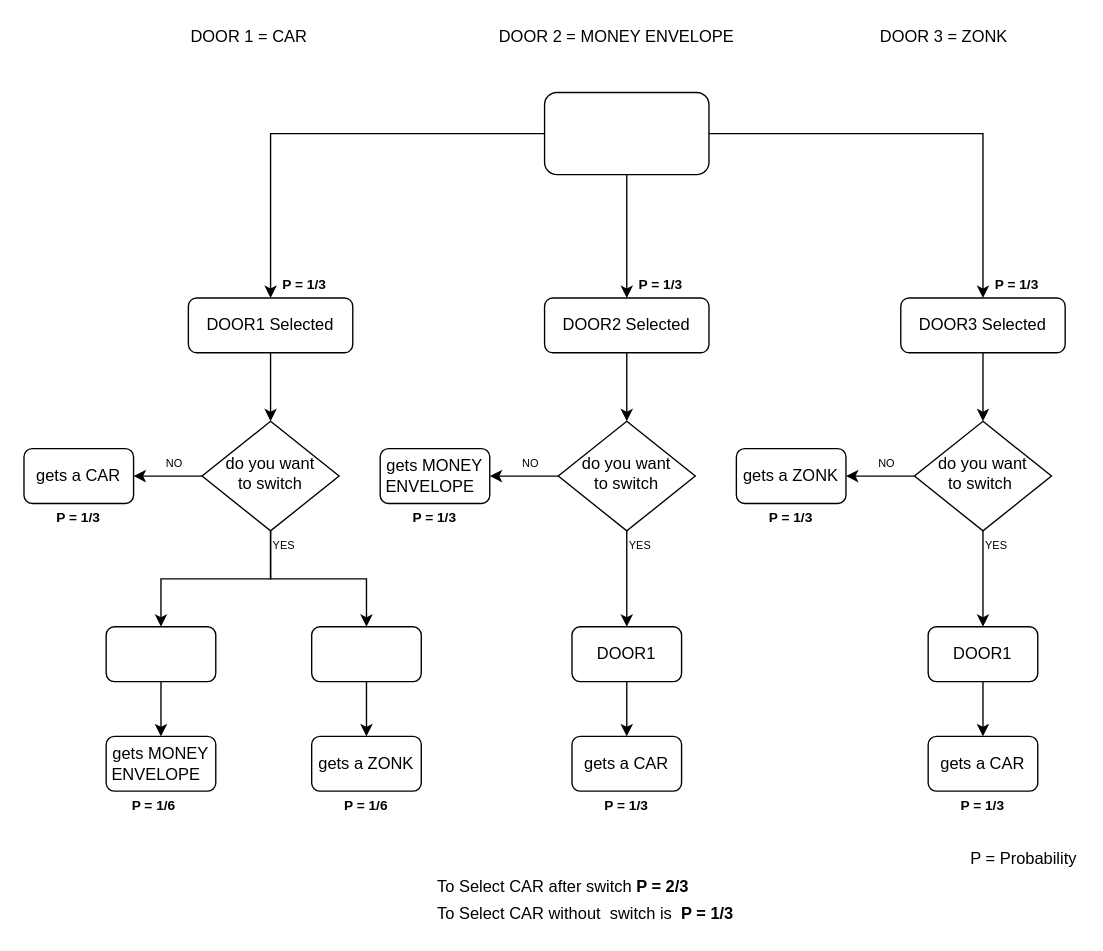
Some shapes in this 1103 by 951 pixel diagram are drawn without their labels. Each missing label, with the centre of its shape:
"DOOR2" goes at [160,653].
"DOOR3" goes at [365,653].
"START" goes at [626,133].
